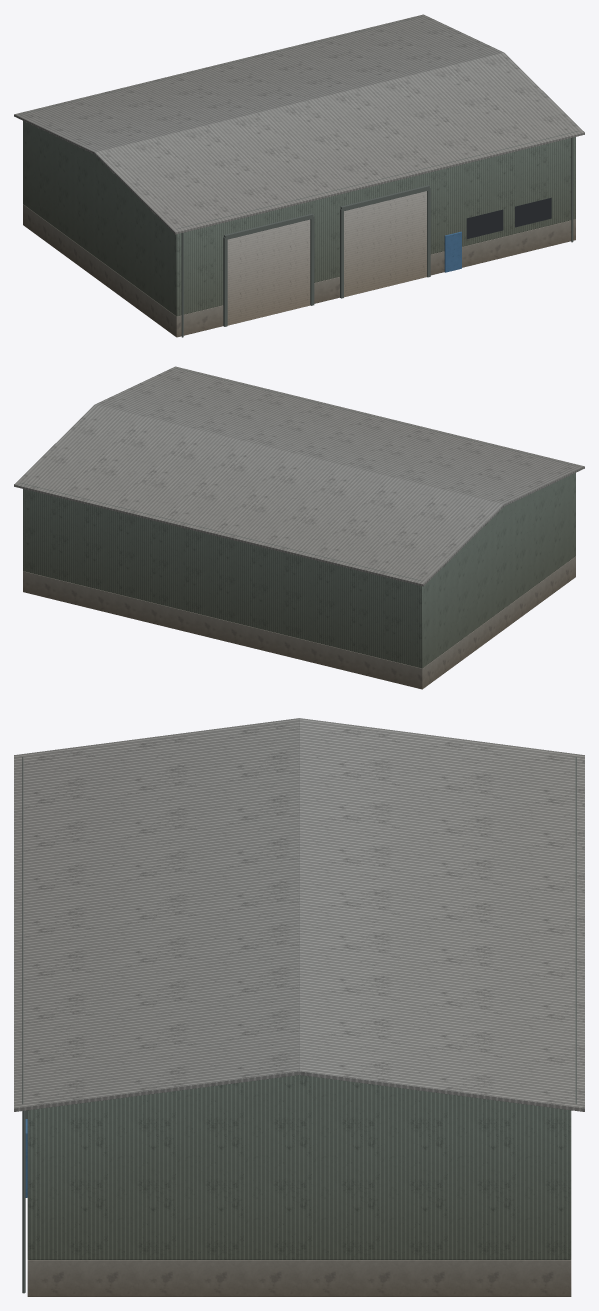
Rendered from prop_shed.glb.
3 views of the same model, one above another, from view 1: azimuth 30°, elevation 25°; view 2: azimuth 150°, elevation 25°; view 3: azimuth 270°, elevation 25° (orthographic). The views are drawn at different scales.
Parts seen in each view (by area): view 1: Roof, Walls, RollerDoors, Plinth, Trim, Glass, OfficeDoor; view 2: Roof, Walls, Plinth, Trim; view 3: Roof, Walls, Plinth, Trim.
Boxes of the visible parts, left/top/right/bottom form: Roof: left=14, top=14, right=584, bottom=234; Walls: left=23, top=121, right=575, bottom=316; RollerDoors: left=227, top=191, right=426, bottom=325; Plinth: left=23, top=204, right=575, bottom=337; Trim: left=20, top=16, right=578, bottom=337; Glass: left=466, top=197, right=551, bottom=238; OfficeDoor: left=444, top=231, right=461, bottom=272; Roof: left=14, top=366, right=584, bottom=586; Walls: left=23, top=473, right=575, bottom=668; Plinth: left=23, top=556, right=575, bottom=689; Trim: left=20, top=368, right=578, bottom=581; Roof: left=14, top=718, right=584, bottom=1111; Walls: left=27, top=1075, right=571, bottom=1259; Plinth: left=27, top=1260, right=571, bottom=1296; Trim: left=22, top=757, right=576, bottom=1293.
Size of the model in its own units: 24.6 by 7.46 by 16.8.
Materials: 7 (5 with a texture image).
